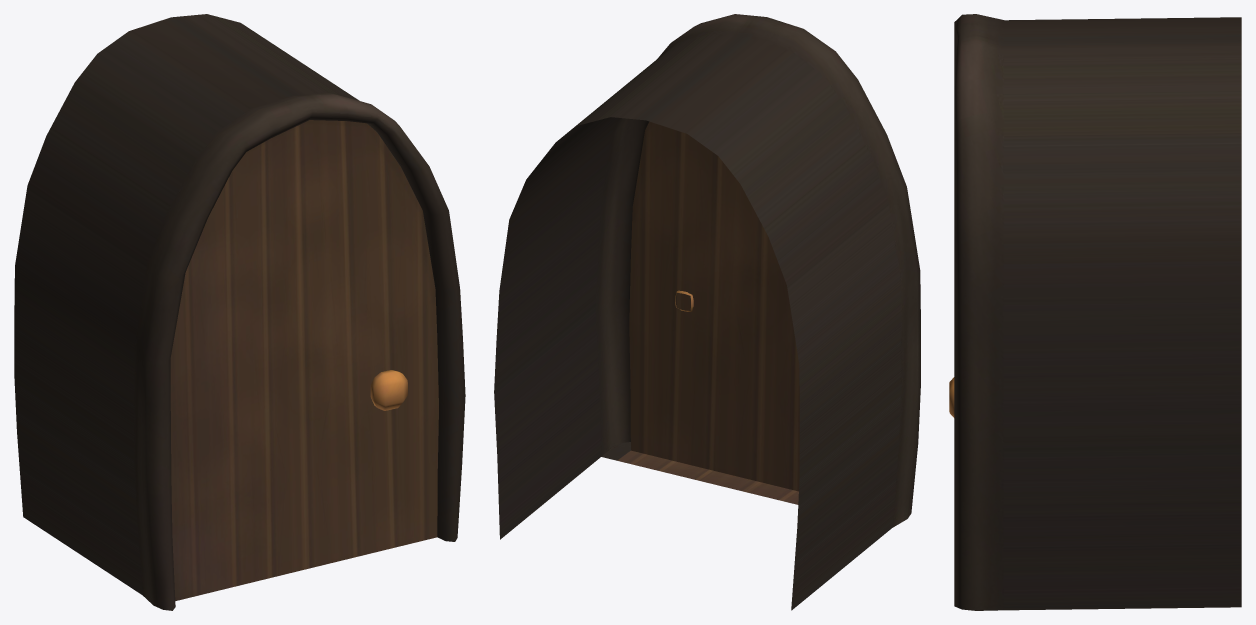
File: Door1.fbx
3 views of the same model, side by side, from view 1: azimuth 30°, elevation 25°; view 2: azimuth 150°, elevation 25°; view 3: azimuth 270°, elevation 25° (orthographic). The views are drawn at different scales.
Visible parts, largest first — view 1: Door1, DoorKnob; view 2: Door1; view 3: Door1.
Boxes of the visible parts, box(x1,y1,x2,y2) form: Door1: box(14, 14, 465, 610); DoorKnob: box(370, 370, 407, 410); Door1: box(494, 14, 920, 610); Door1: box(954, 14, 1241, 610).
Bounding box in the file's own units: 1.73 × 2.42 × 1.27.
